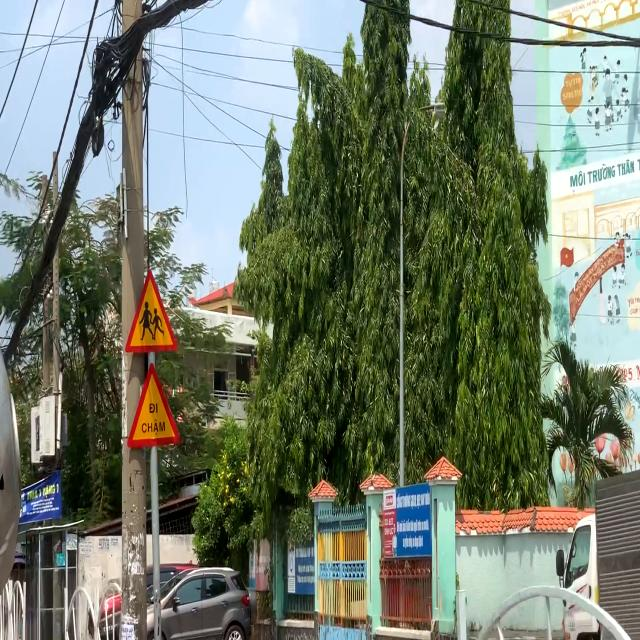W.225: (125, 268, 178, 354)
W.245a: (126, 361, 181, 450)
